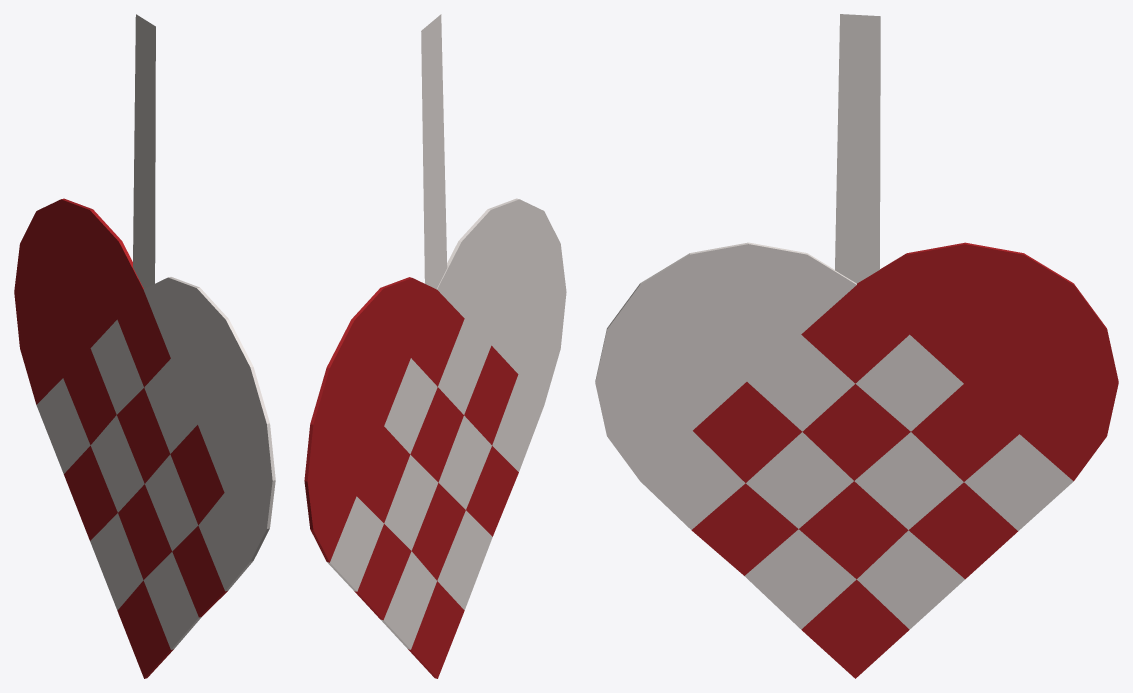
The model's file is heart1.glb.
The picture shows the model from 3 angles, left to right: view 1: azimuth 30°, elevation 25°; view 2: azimuth 150°, elevation 25°; view 3: azimuth 270°, elevation 25°; orthographic projection.
Parts seen in each view (by area): view 1: heart1; view 2: heart1; view 3: heart1.
Boxes of the visible parts, box(x1,y1,x2,y2) form: heart1: box(14, 14, 275, 678); heart1: box(304, 14, 566, 678); heart1: box(595, 14, 1118, 678).
Size of the model in its own units: 0.00127 by 0.1915 by 0.1365.
